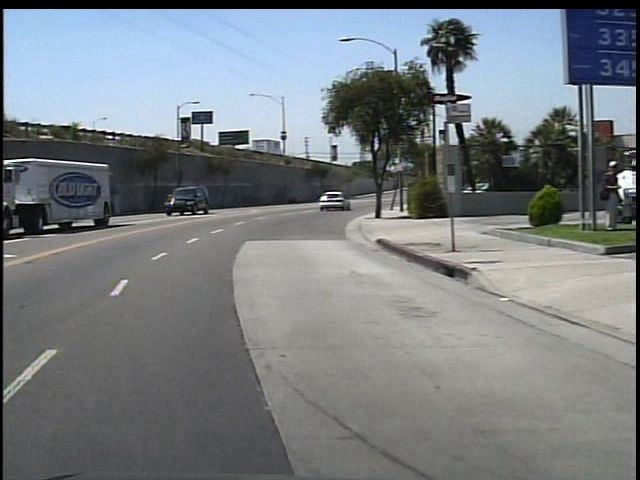person: (591, 157, 618, 234)
